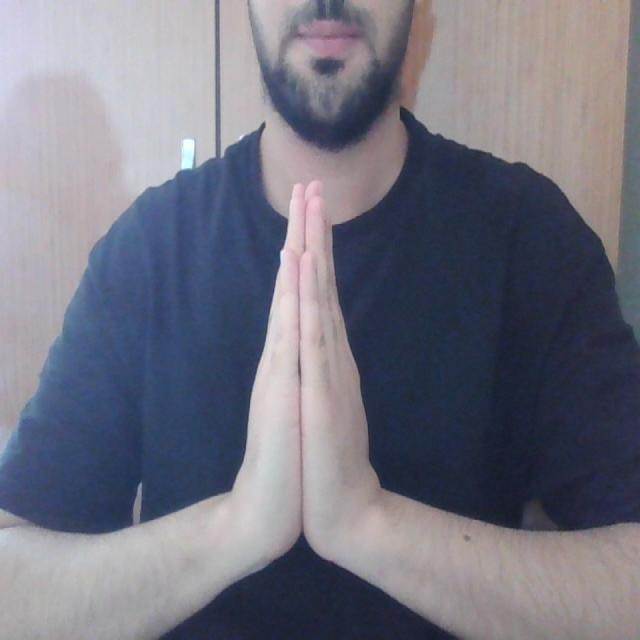Ozur-Dilemek: (225, 175, 384, 598)
